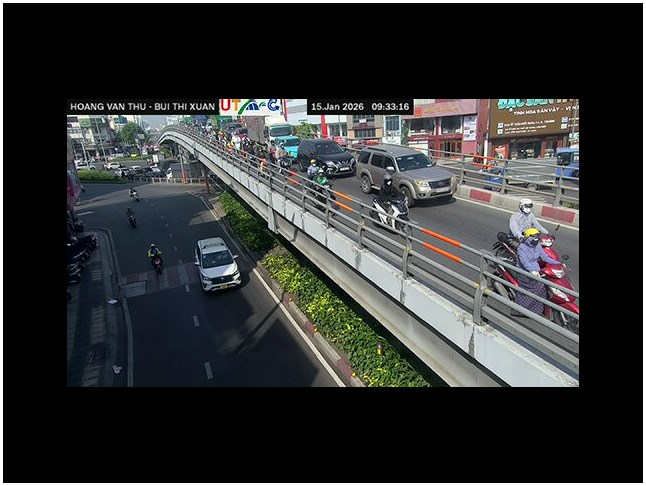car: (355, 144, 458, 208), (195, 235, 255, 293), (293, 139, 357, 179)
